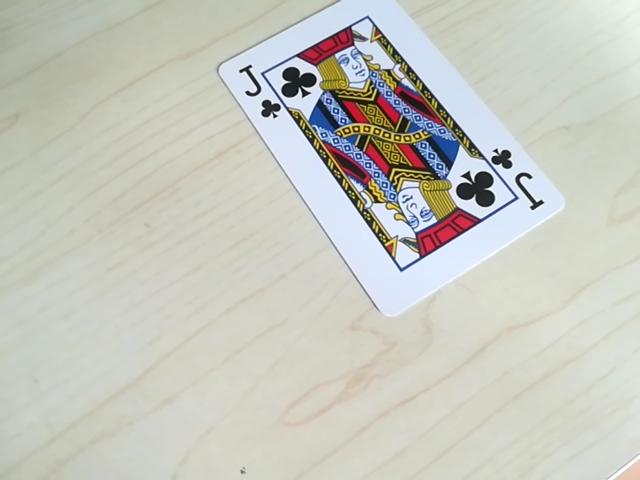mh j: (231, 64, 295, 121), (484, 146, 543, 206)
